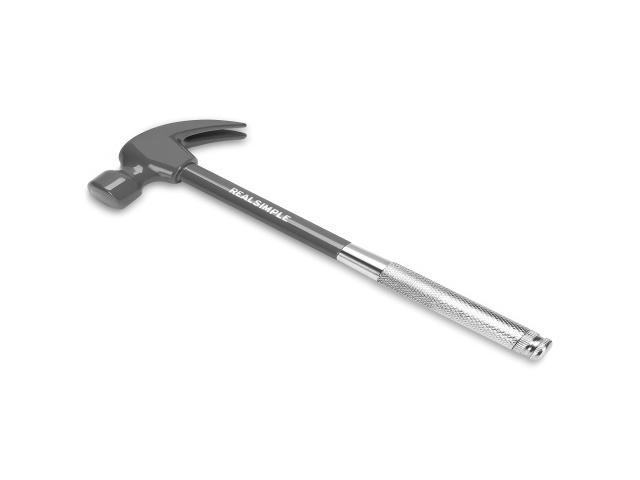Hammer: (88, 120, 551, 360)
